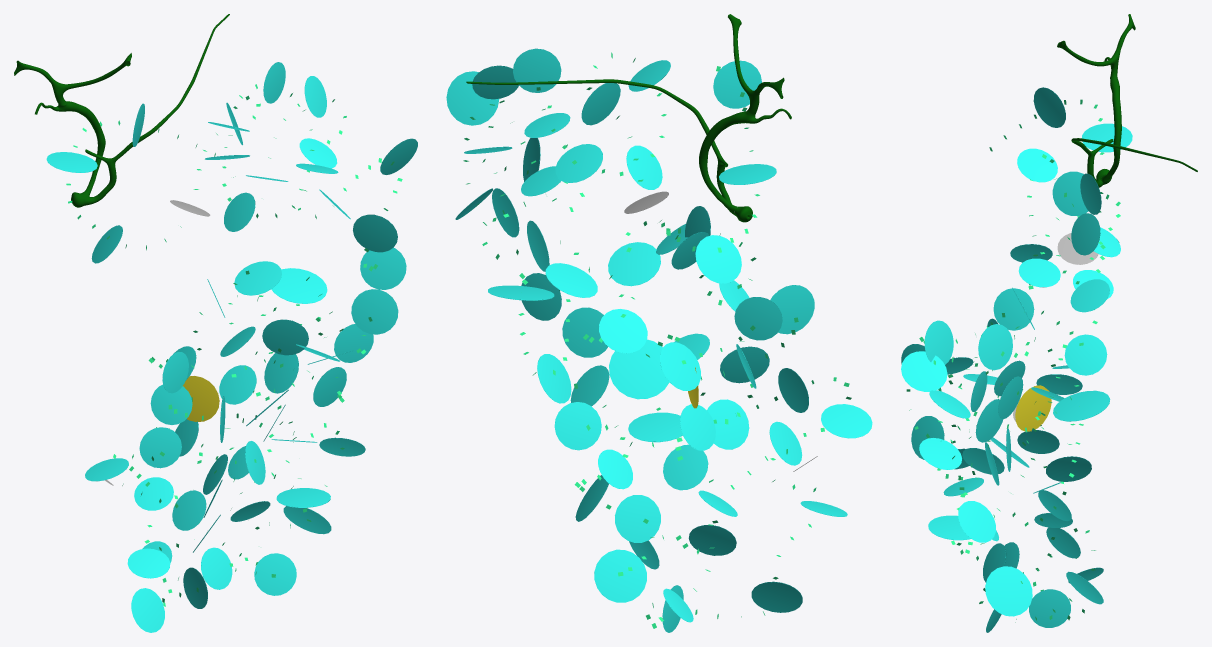
Rendered from VH_M_Small_Intestine_Landmarks.glb.
The picture shows the model from 3 angles, left to right: view 1: azimuth 30°, elevation 25°; view 2: azimuth 150°, elevation 25°; view 3: azimuth 270°, elevation 25°; orthographic projection. The views are drawn at different scales.
Parts seen in each view (by area): view 1: VH_M_small_intestine_landmark_biliary_tree, VH_M_small_intestine_landmark_cm_markers, VH_M_small_intestine_disc_at_090_cm, VH_M_small_intestine_disc_at_085_cm, VH_M_small_intestine_disc_at_100_cm, VH_M_small_intestine_disc_at_225_cm, VH_M_small_intestine_disc_at_245_cm, VH_M_small_intestine_disc_at_080_cm, VH_M_small_intestine_disc_at_140_cm, VH_M_small_intestine_disc_at_110_cm, VH_M_small_intestine_disc_at_160_cm, VH_M_small_intestine_disc_at_265_cm (+24 smaller); view 2: VH_M_small_intestine_landmark_biliary_tree, VH_M_small_intestine_landmark_cm_markers, VH_M_small_intestine_disc_at_185_cm, VH_M_small_intestine_disc_at_220_cm, VH_M_small_intestine_disc_at_125_cm, VH_M_small_intestine_disc_at_200_cm, VH_M_small_intestine_disc_at_075_cm, VH_M_small_intestine_disc_at_215_cm, VH_M_small_intestine_disc_at_015_cm, VH_M_small_intestine_disc_at_115_cm, VH_M_small_intestine_disc_at_120_cm, VH_M_small_intestine_disc_at_150_cm (+33 smaller); view 3: VH_M_small_intestine_landmark_biliary_tree, VH_M_small_intestine_disc_at_210_cm, VH_M_small_intestine_landmark_cm_markers, VH_M_small_intestine_disc_at_130_cm, VH_M_small_intestine_disc_at_070_cm, VH_M_small_intestine_disc_at_145_cm, VH_M_small_intestine_disc_at_100_cm, VH_M_small_intestine_disc_at_270_cm, VH_M_small_intestine_disc_at_080_cm, VH_M_small_intestine_disc_at_195_cm, VH_M_small_intestine_landmark_jejunoileal_junction, VH_M_small_intestine_disc_at_025_cm (+29 smaller).
Part boxes in pixels (x1,y1,x2,y2): VH_M_small_intestine_landmark_biliary_tree: (14, 14, 229, 207); VH_M_small_intestine_landmark_cm_markers: (66, 84, 402, 606); VH_M_small_intestine_disc_at_090_cm: (351, 289, 398, 334); VH_M_small_intestine_disc_at_085_cm: (360, 247, 406, 289); VH_M_small_intestine_disc_at_100_cm: (271, 268, 327, 303); VH_M_small_intestine_disc_at_225_cm: (254, 553, 296, 595); VH_M_small_intestine_disc_at_245_cm: (139, 427, 181, 468); VH_M_small_intestine_disc_at_080_cm: (353, 214, 397, 252); VH_M_small_intestine_disc_at_140_cm: (262, 319, 308, 355); VH_M_small_intestine_disc_at_110_cm: (234, 261, 281, 295); VH_M_small_intestine_disc_at_160_cm: (150, 384, 192, 424); VH_M_small_intestine_disc_at_265_cm: (131, 588, 164, 632); VH_M_small_intestine_landmark_biliary_tree: (466, 14, 791, 222); VH_M_small_intestine_landmark_cm_markers: (463, 52, 851, 628); VH_M_small_intestine_disc_at_185_cm: (609, 339, 669, 399); VH_M_small_intestine_disc_at_220_cm: (594, 549, 646, 602); VH_M_small_intestine_disc_at_125_cm: (608, 242, 660, 286); VH_M_small_intestine_disc_at_200_cm: (554, 402, 601, 450); VH_M_small_intestine_disc_at_075_cm: (446, 71, 499, 125); VH_M_small_intestine_disc_at_215_cm: (615, 495, 660, 542); VH_M_small_intestine_disc_at_015_cm: (695, 235, 741, 283); VH_M_small_intestine_disc_at_115_cm: (599, 309, 647, 353); VH_M_small_intestine_disc_at_120_cm: (562, 307, 608, 357); VH_M_small_intestine_disc_at_150_cm: (734, 297, 782, 340); VH_M_small_intestine_landmark_biliary_tree: (1057, 14, 1197, 187); VH_M_small_intestine_disc_at_210_cm: (985, 566, 1032, 616); VH_M_small_intestine_landmark_cm_markers: (906, 99, 1120, 622); VH_M_small_intestine_disc_at_130_cm: (901, 351, 947, 391); VH_M_small_intestine_disc_at_070_cm: (1064, 334, 1107, 375); VH_M_small_intestine_disc_at_145_cm: (993, 288, 1034, 330); VH_M_small_intestine_disc_at_100_cm: (1053, 390, 1110, 421); VH_M_small_intestine_disc_at_270_cm: (1029, 589, 1070, 627); VH_M_small_intestine_disc_at_080_cm: (978, 324, 1012, 370); VH_M_small_intestine_disc_at_195_cm: (958, 501, 995, 542); VH_M_small_intestine_landmark_jejunoileal_junction: (1015, 385, 1051, 431); VH_M_small_intestine_disc_at_025_cm: (1052, 171, 1088, 216).
Bounding box in the file's own units: 0.1888 × 0.29 × 0.1394.
